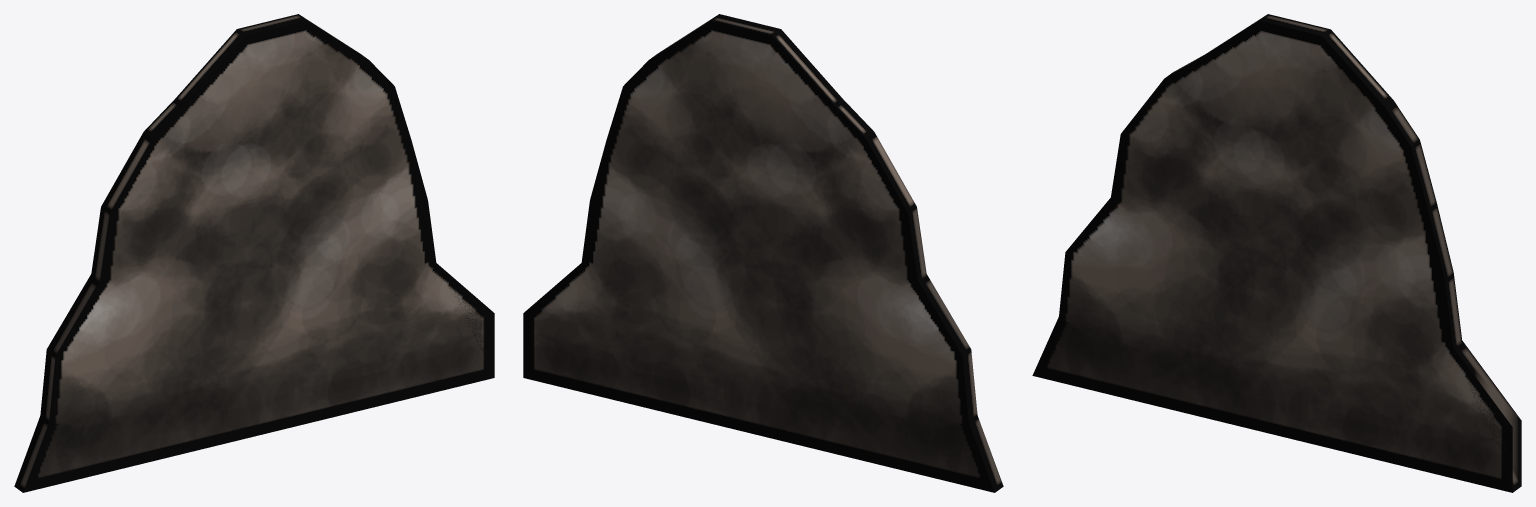
File: Boulder.FBX
3 renders of one model, left to right at view 1: azimuth 30°, elevation 25°; view 2: azimuth 150°, elevation 25°; view 3: azimuth 330°, elevation 25°, orthographic.
Parts seen in each view (by area): view 1: Box001; view 2: Box001; view 3: Box001.
Boxes of the visible parts, <box> form: Box001: <box>14,14,494,492</box>; Box001: <box>523,14,1003,492</box>; Box001: <box>1032,14,1521,492</box>.
Size of the model in its own units: 61.35 by 50.13 by 1.98.
1 material, 1 textured.
